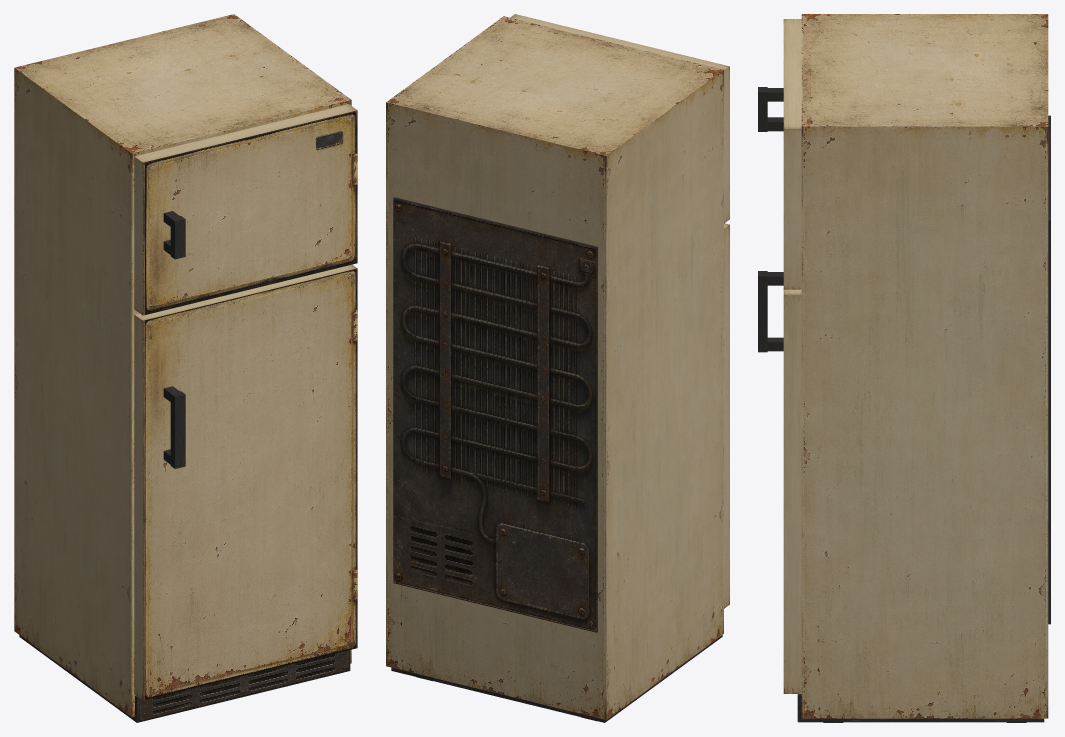
File: level_house_fridge_worn.glb
The picture shows the model from 3 angles, left to right: view 1: azimuth 30°, elevation 25°; view 2: azimuth 150°, elevation 25°; view 3: azimuth 270°, elevation 25°; orthographic projection. The views are drawn at different scales.
Visible parts, largest first — view 1: level_house_fridge_worn; view 2: level_house_fridge_worn; view 3: level_house_fridge_worn.
Part boxes in pixels (x1,y1,x2,y2): level_house_fridge_worn: (14,14,357,722); level_house_fridge_worn: (386,14,729,722); level_house_fridge_worn: (758,14,1050,722).
Bounding box in the file's own units: 0.67 × 1.68 × 0.735.
Materials: 1 (1 with a texture image).
